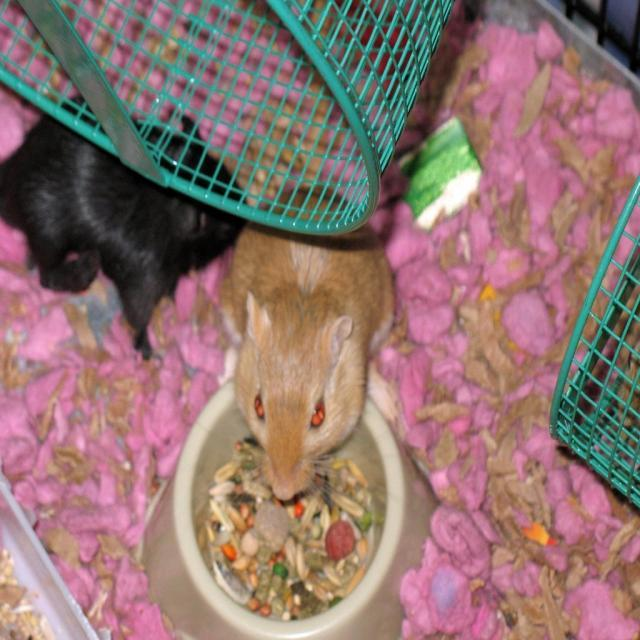rat: (0, 106, 247, 356), (219, 187, 394, 496)
